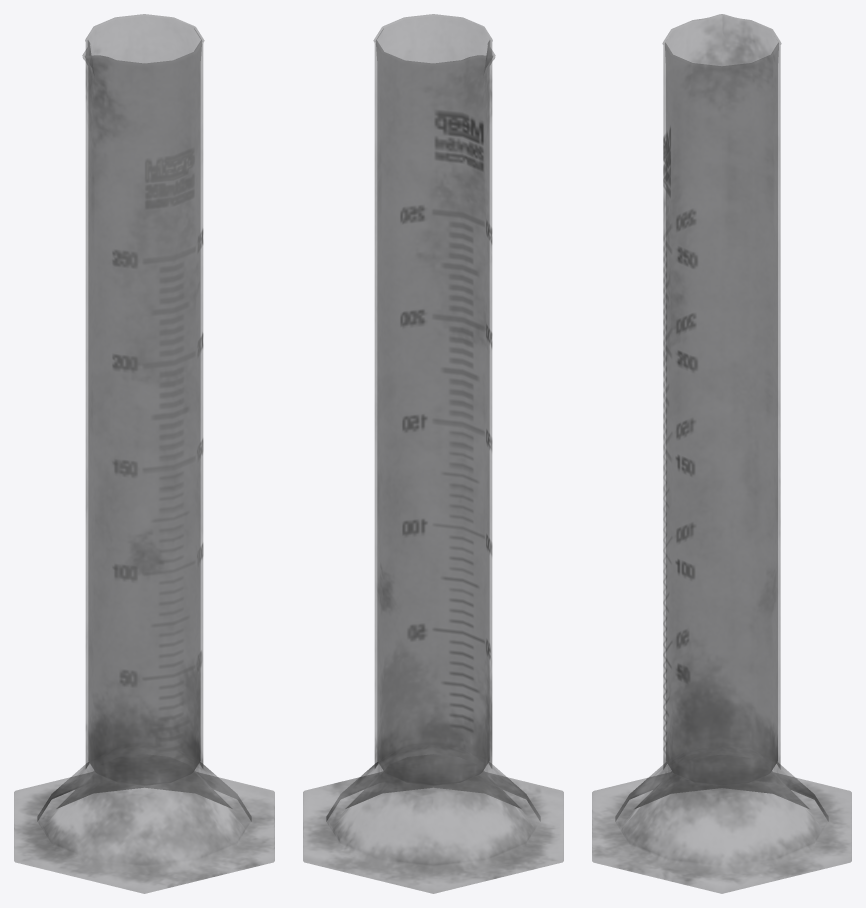
Rendered from beaker_large.glb.
3 renders of one model, left to right at view 1: azimuth 30°, elevation 25°; view 2: azimuth 150°, elevation 25°; view 3: azimuth 270°, elevation 25°, orthographic.
Visible parts, largest first — view 1: chemistry_set_beaker_large.001; view 2: chemistry_set_beaker_large.001; view 3: chemistry_set_beaker_large.001.
Boxes of the visible parts, bbox=[...] form: chemistry_set_beaker_large.001: bbox=[14, 14, 274, 893]; chemistry_set_beaker_large.001: bbox=[303, 14, 563, 893]; chemistry_set_beaker_large.001: bbox=[592, 14, 851, 893].
Bounding box in the file's own units: 0.1071 × 0.3123 × 0.0932.
Materials: 1 (1 with a texture image).
